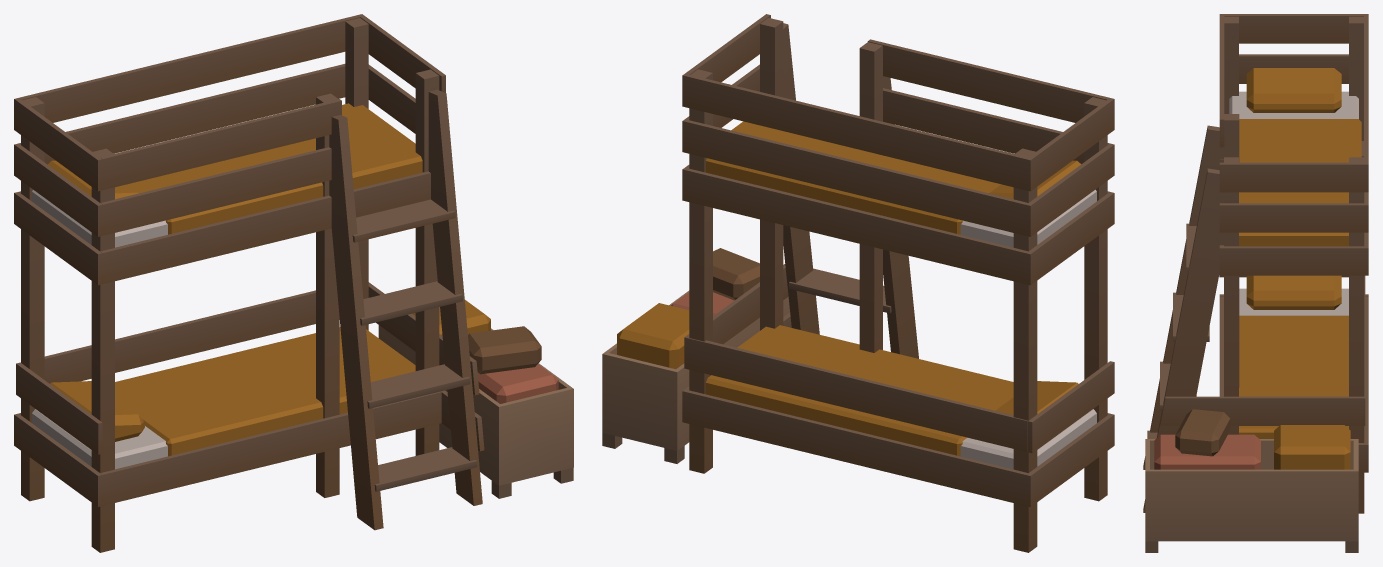
Rendered from bunkbed.glb.
3 views of the same model, side by side, from view 1: azimuth 30°, elevation 25°; view 2: azimuth 150°, elevation 25°; view 3: azimuth 270°, elevation 25° (orthographic). The views are drawn at different scales.
Parts seen in each view (by area): view 1: Cube.004; view 2: Cube.004; view 3: Cube.004.
Part boxes in pixels (x1,y1,x2,y2): Cube.004: (14, 14, 573, 552); Cube.004: (602, 14, 1114, 552); Cube.004: (1143, 14, 1368, 552).
Bounding box in the file's own units: 2.92 × 2.54 × 1.48.
